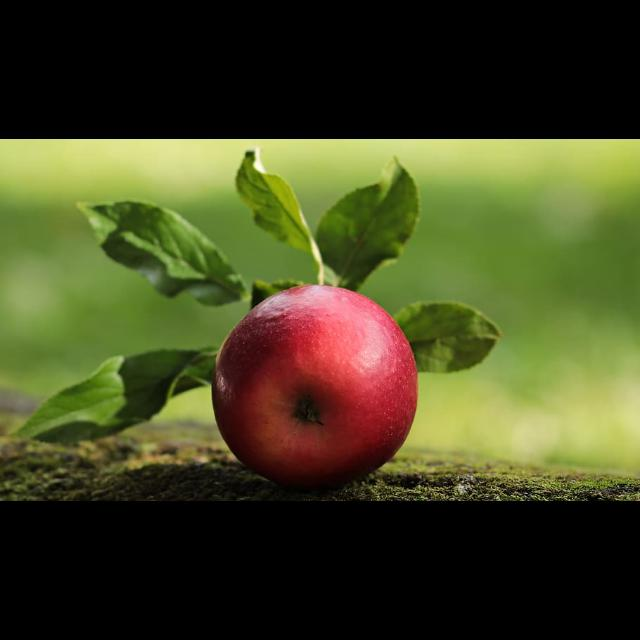Apel Segar: (208, 270, 422, 498)
